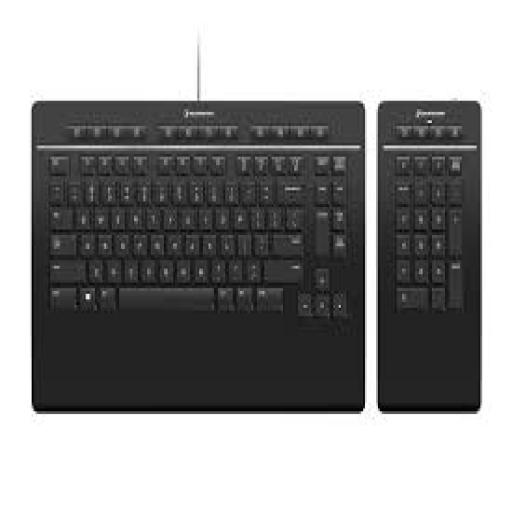KEYBOARD-2: (34, 104, 363, 408)
